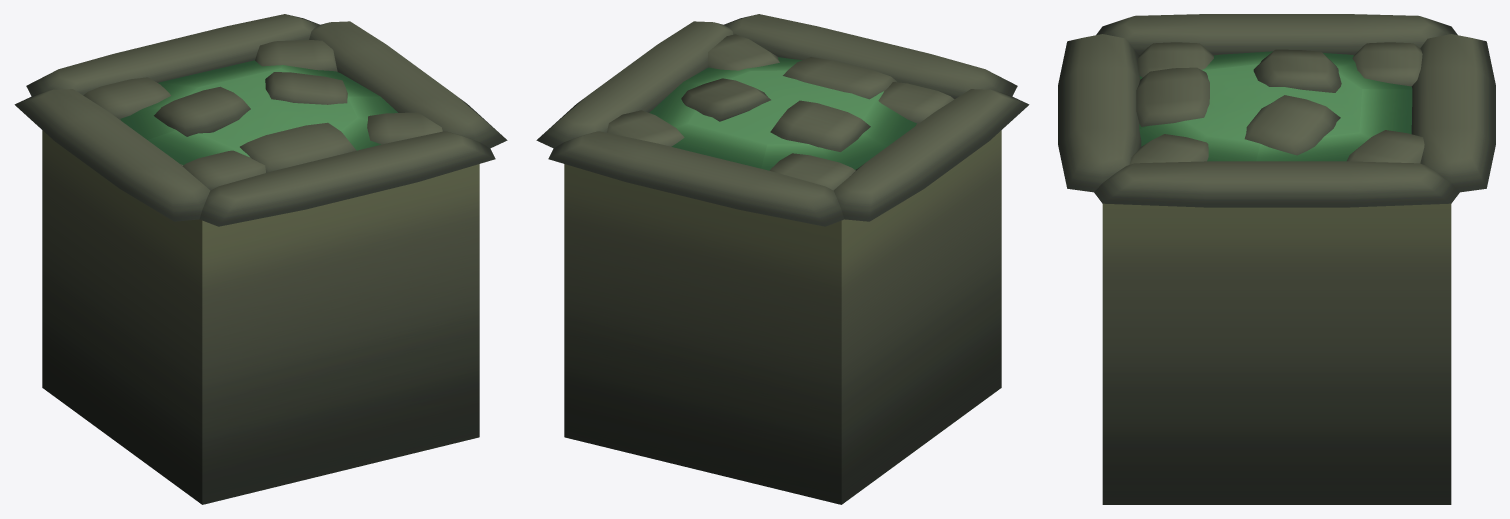
The model's file is tileBreakable1_mesh.fbx.
3 renders of one model, left to right at view 1: azimuth 30°, elevation 25°; view 2: azimuth 150°, elevation 25°; view 3: azimuth 270°, elevation 25°, orthographic. The views are drawn at different scales.
Visible parts, largest first — view 1: tileBreakable1_mesh; view 2: tileBreakable1_mesh; view 3: tileBreakable1_mesh.
Boxes of the visible parts, x1,y1,x2,y2 form: tileBreakable1_mesh: [14, 14, 507, 504]; tileBreakable1_mesh: [536, 14, 1029, 504]; tileBreakable1_mesh: [1058, 14, 1495, 504].
Bounding box in the file's own units: 125 × 110 × 125.
